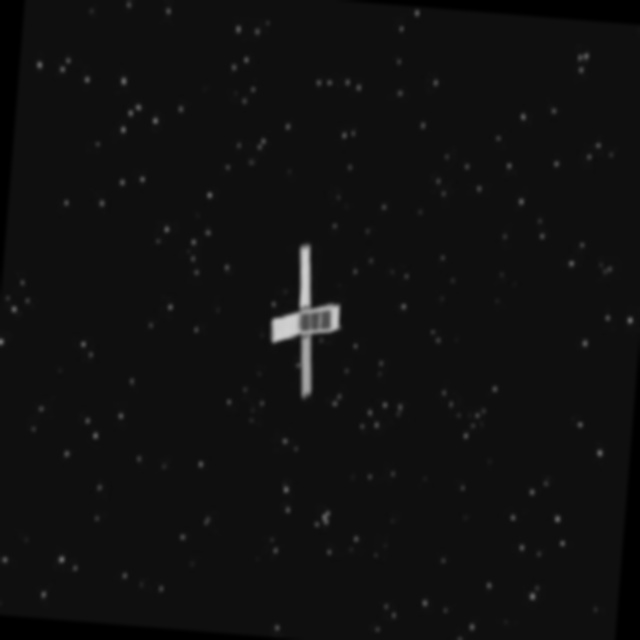medium_debris: (238, 234, 354, 400)
